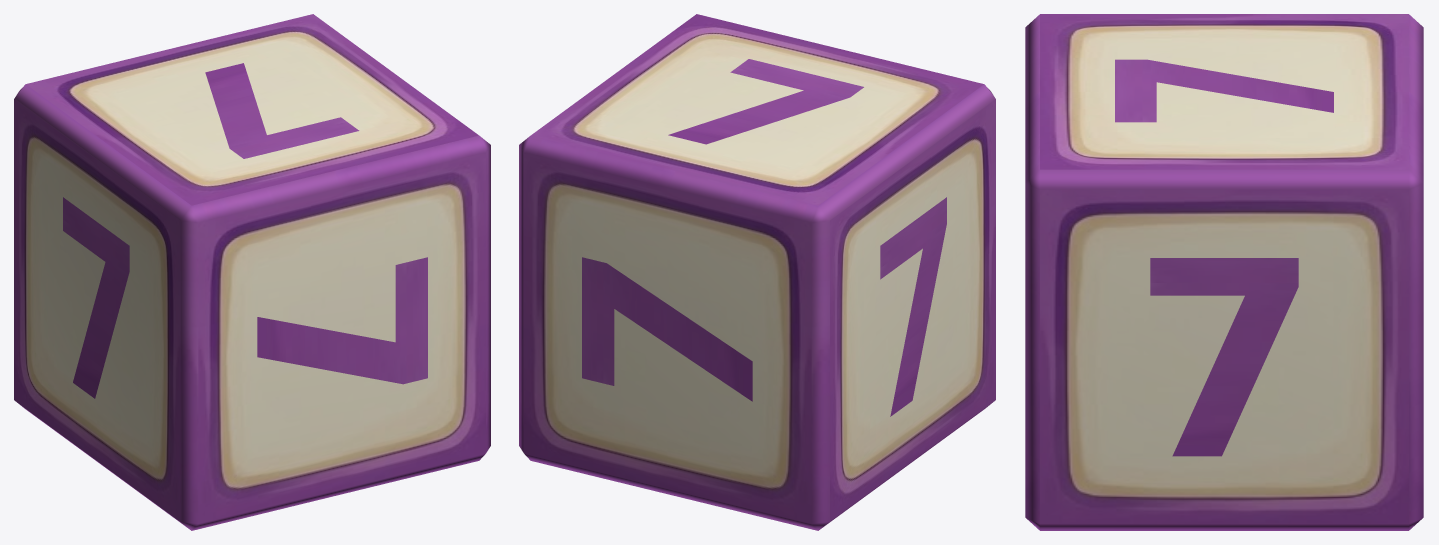
The picture shows the model from 3 angles, left to right: view 1: azimuth 30°, elevation 25°; view 2: azimuth 150°, elevation 25°; view 3: azimuth 270°, elevation 25°; orthographic projection. The views are drawn at different scales.
Parts seen in each view (by area): view 1: Cube7; view 2: Cube7; view 3: Cube7.
Boxes of the visible parts, x1,y1,x2,y2 form: Cube7: (14,14,490,530); Cube7: (519,14,995,530); Cube7: (1025,14,1423,530).
Size of what is drawn, in the model's own units: 0.513 by 0.513 by 0.513.
Materials: 1 (1 with a texture image).
